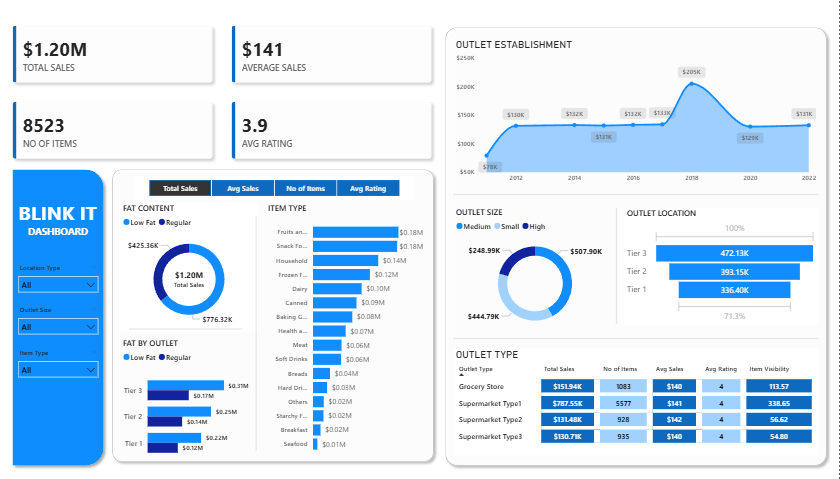

The dashboard page shown, as its layout file describes it:
{"tool":"powerbi","page":{"name":"Page 1","canvas":[1400,800],"ordinal":0},"visuals":[{"type":"shape","box":[13.3,273.3,170,511.7],"z":0},{"type":"cardVisual","fields":{"Data":["BlinkIT Grocery Data.Total Sales","BlinkIT Grocery Data.Average Sales","BlinkIT Grocery Data.Number of Items","BlinkIT Grocery Data.Average Rating"]},"box":[1.7,21.7,740,265],"z":1000},{"type":"shape","box":[180,273.3,553.3,505],"z":2000},{"type":"slicer","fields":{"Values":["Parameter.Parameter"]},"box":[224.3,292.9,465.7,40],"z":3000},{"type":"donutChart","title":"FAT CONTENT","fields":{"Y":["BlinkIT Grocery Data.Total Sales"],"Category":["BlinkIT Grocery Data.Item Fat Content"]},"box":[201.4,338.6,230,214.3],"z":4000},{"type":"cardVisual","fields":{"Data":["BlinkIT Grocery Data.Total Sales"]},"box":[258.6,420,117.1,90],"z":5000},{"type":"clusteredBarChart","title":"FAT BY OUTLET","fields":{"Y":["BlinkIT Grocery Data.Total Sales"],"Category":["BlinkIT Grocery Data.Outlet Location Type"],"Series":["BlinkIT Grocery Data.Item Fat Content"]},"box":[201.4,562.9,220,215.7],"z":6000},{"type":"shape","box":[217.1,542.9,188.6,10],"z":7000},{"type":"shape","box":[385.7,360,87.1,391.4],"z":8000},{"type":"barChart","title":"ITEM TYPE","fields":{"Y":["BlinkIT Grocery Data.Total Sales"],"Category":["BlinkIT Grocery Data.Item Type"]},"box":[442.9,338.6,268.6,425.7],"z":9000},{"type":"shape","box":[735,36.7,653.3,748.3],"z":10000},{"type":"lineChart","title":"OUTLET ESTABLISHMENT","fields":{"Y":["BlinkIT Grocery Data.Total Sales"],"Category":["BlinkIT Grocery Data.Outlet Establishment Year"]},"box":[756.7,63.3,610,251.7],"z":11000},{"type":"shape","box":[756.7,311.7,610,25],"z":12000},{"type":"donutChart","title":"OUTLET SIZE","fields":{"Y":["BlinkIT Grocery Data.Total Sales"],"Category":["BlinkIT Grocery Data.Outlet Size"]},"box":[756.7,345.7,273.3,215],"z":13000},{"type":"shape","box":[985,347.3,88.3,193.3],"z":14000},{"type":"funnel","title":"OUTLET LOCATION","fields":{"Y":["Sum(BlinkIT Grocery Data.Sales)"],"Category":["BlinkIT Grocery Data.Outlet Location Type"]},"box":[1041.7,347.3,325,195],"z":15000},{"type":"shape","box":[756.7,551.7,610,25],"z":16000},{"type":"pivotTable","title":"OUTLET TYPE","fields":{"Rows":["BlinkIT Grocery Data.Outlet Type"],"Values":["BlinkIT Grocery Data.Total Sales","BlinkIT Grocery Data.Number of Items","BlinkIT Grocery Data.Average Sales","BlinkIT Grocery Data.Average Rating","Sum(BlinkIT Grocery Data.Item Visibility)"]},"box":[756.7,580,610,178.3],"z":17000},{"type":"slicer","fields":{"Values":["BlinkIT Grocery Data.Outlet Location Type"]},"box":[21.2,415,153.8,76.2],"z":18000},{"type":"slicer","fields":{"Values":["BlinkIT Grocery Data.Outlet Size"]},"box":[21.2,485,153.8,76.2],"z":19000},{"type":"slicer","fields":{"Values":["BlinkIT Grocery Data.Item Type"]},"box":[21.2,556.2,153.8,76.2],"z":20000}]}

Visuals, with their boxes in screenshot pixels (x1, y1, x2, y2), scaled from the page's 1400x800 canvas onto the 840x479 screenshot:
shape: left=8, top=164, right=110, bottom=470
cardVisual - BlinkIT Grocery Data.Total Sales x BlinkIT Grocery Data.Average Sales: left=1, top=13, right=445, bottom=172
shape: left=108, top=164, right=440, bottom=466
slicer - Parameter.Parameter: left=135, top=175, right=414, bottom=199
"FAT CONTENT" donutChart: left=121, top=203, right=259, bottom=331
cardVisual - BlinkIT Grocery Data.Total Sales: left=155, top=251, right=225, bottom=305
"FAT BY OUTLET" clusteredBarChart: left=121, top=337, right=253, bottom=466
shape: left=130, top=325, right=243, bottom=331
shape: left=231, top=216, right=284, bottom=450
"ITEM TYPE" barChart: left=266, top=203, right=427, bottom=458
shape: left=441, top=22, right=833, bottom=470
"OUTLET ESTABLISHMENT" lineChart: left=454, top=38, right=820, bottom=189
shape: left=454, top=187, right=820, bottom=202
"OUTLET SIZE" donutChart: left=454, top=207, right=618, bottom=336
shape: left=591, top=208, right=644, bottom=324
"OUTLET LOCATION" funnel: left=625, top=208, right=820, bottom=325
shape: left=454, top=330, right=820, bottom=345
"OUTLET TYPE" pivotTable: left=454, top=347, right=820, bottom=454
slicer - BlinkIT Grocery Data.Outlet Location Type: left=13, top=248, right=105, bottom=294
slicer - BlinkIT Grocery Data.Outlet Size: left=13, top=290, right=105, bottom=336
slicer - BlinkIT Grocery Data.Item Type: left=13, top=333, right=105, bottom=379
